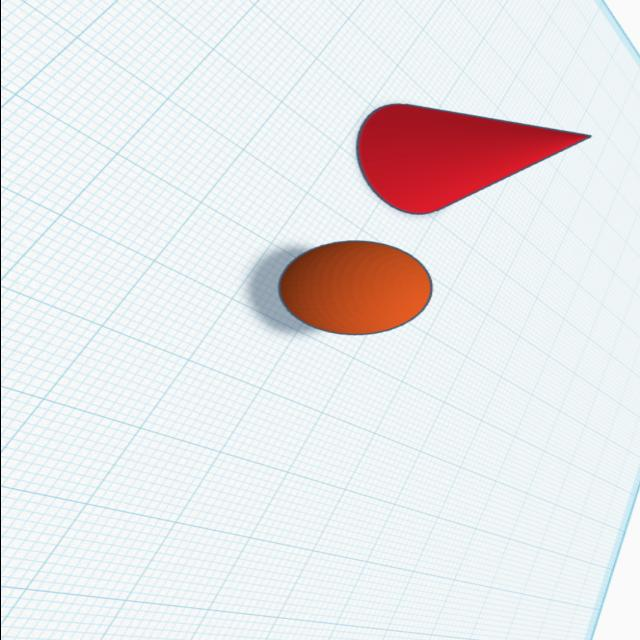cone: (352, 102, 594, 216)
sphere: (276, 238, 438, 338)
